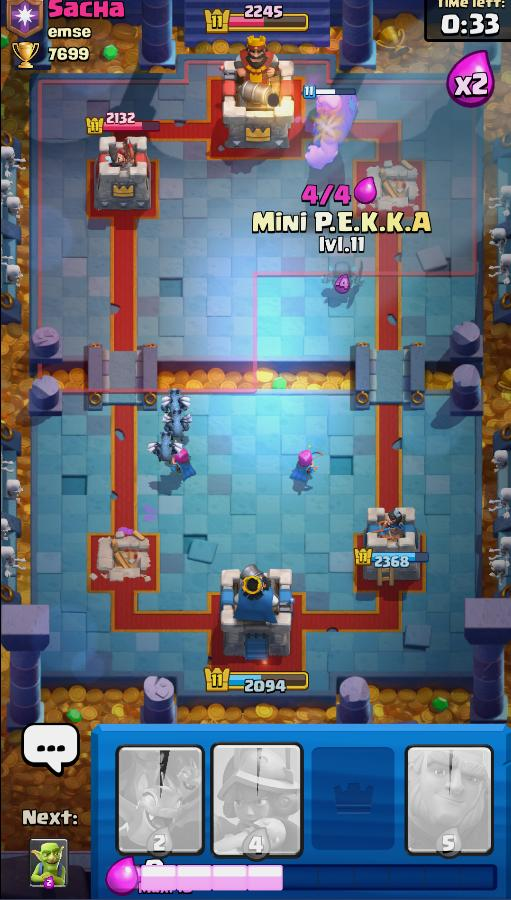archere: (283, 441, 330, 490), (166, 443, 212, 485)
gargouille: (159, 386, 194, 422), (146, 430, 182, 464), (156, 411, 196, 438)
geant: (294, 80, 372, 170)
mini_PEKKA: (319, 256, 369, 299)
